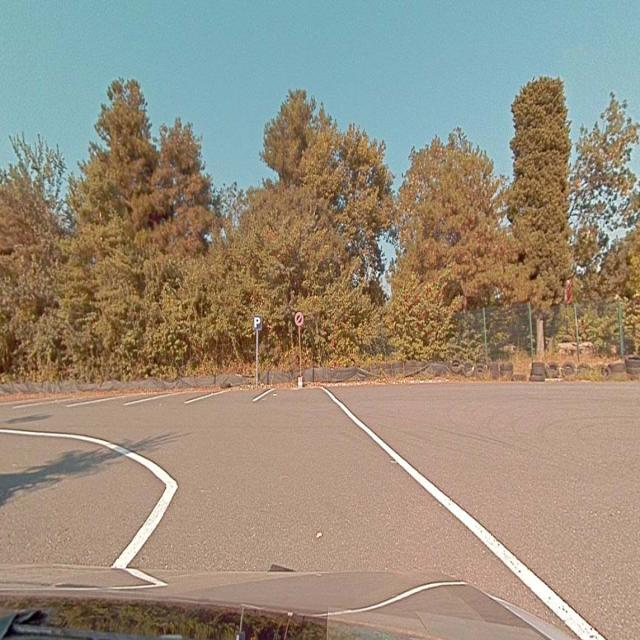park: (254, 316, 262, 330)
parkyasak: (295, 312, 304, 325)
